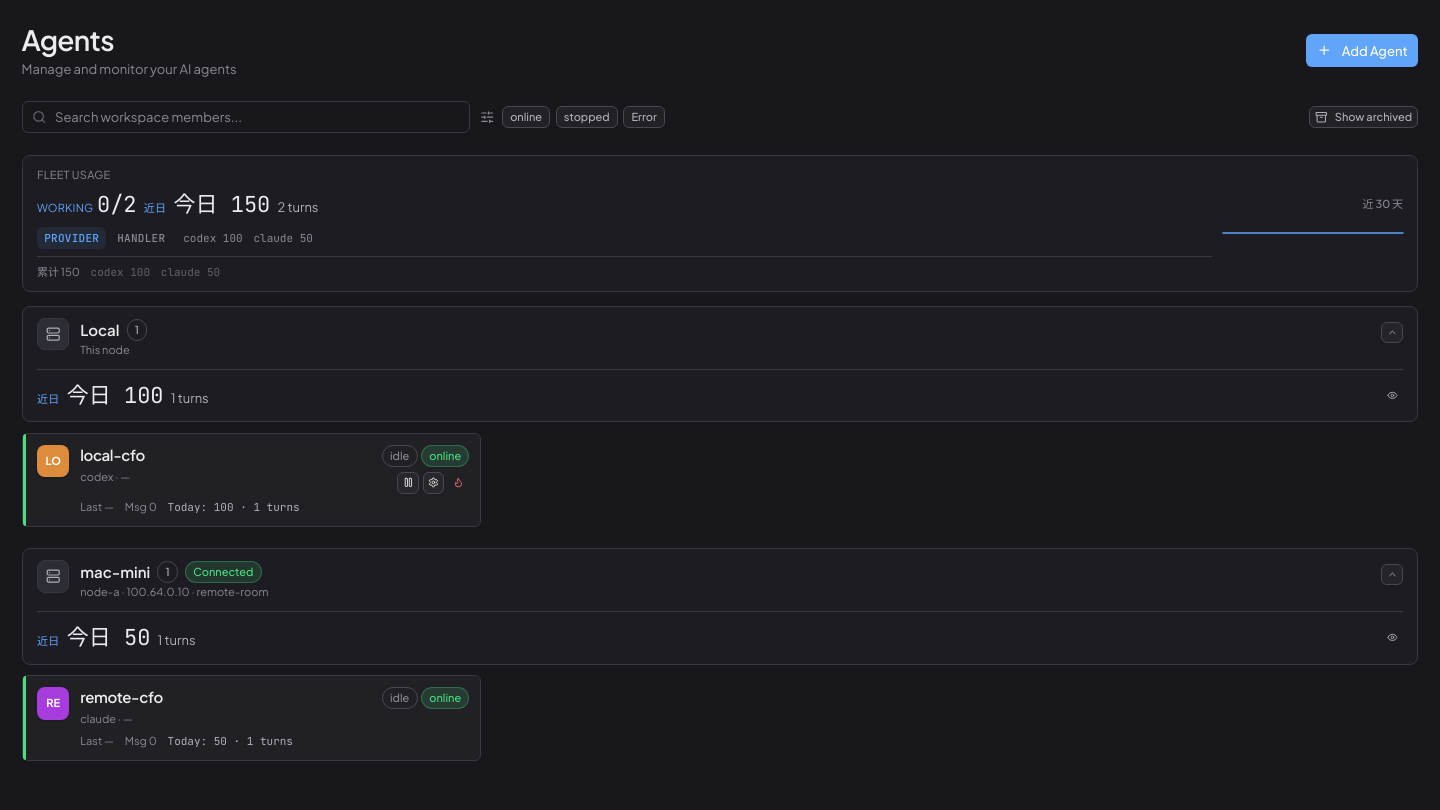
Test case: AgentList fleet grouping › uses the node chevron to collapse members without hiding the usage summary
The image size is (1440, 810).
expect the element with test id "agent-node-grid" that starts with "local-cfo" is shown: met, box [22, 433, 481, 527]
What coordinates should you click on to do the following:
click the button named "Collapse Local members"
I would click on:
 (1392, 332)
Its box is [1381, 322, 1403, 343].
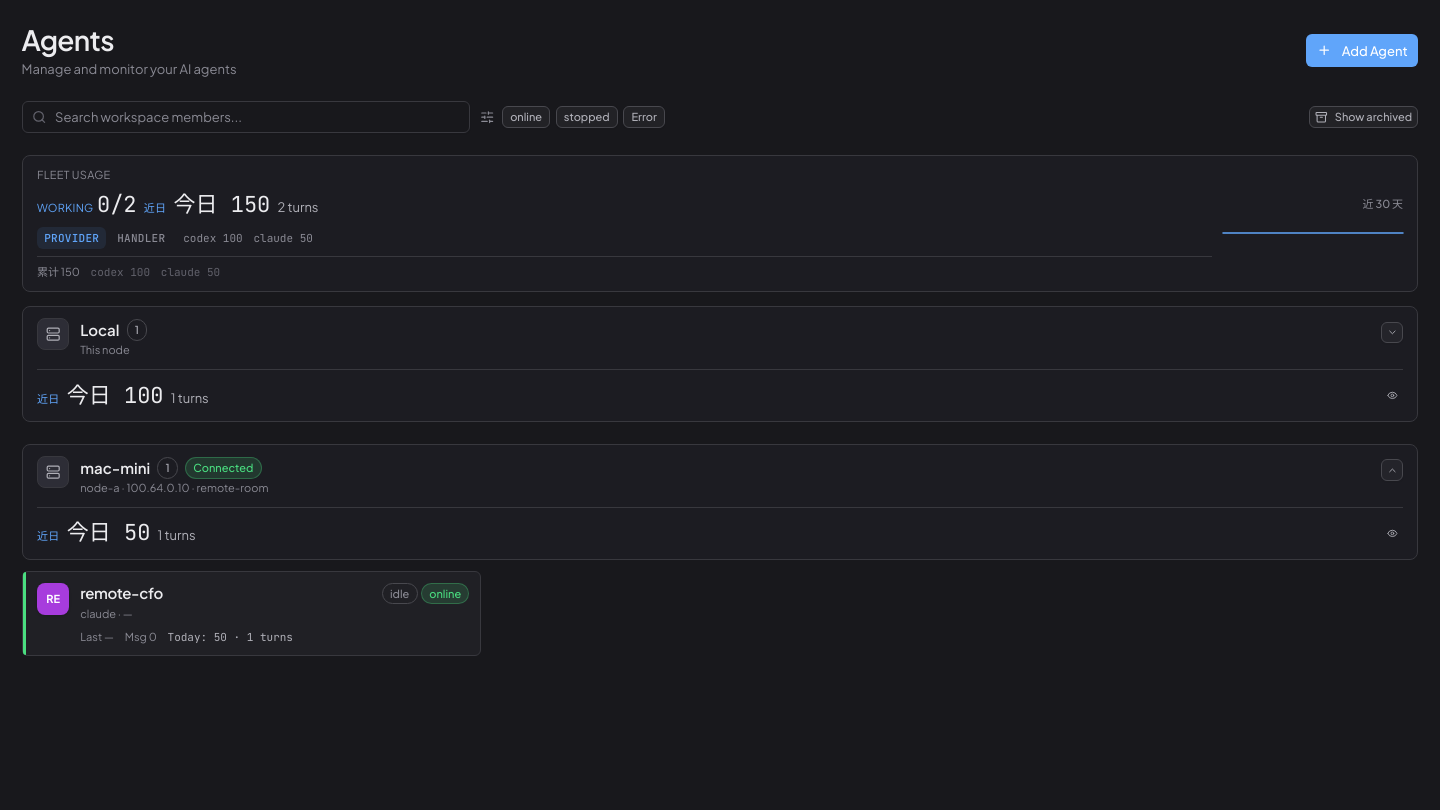
expect the button named "Collapse Local members" is collapsed: met, box [1381, 322, 1403, 343]
